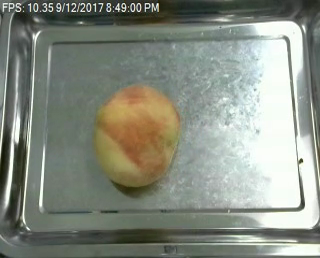Peach: (94, 83, 181, 188)
